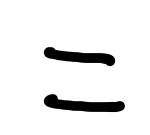eqv: (44, 48, 125, 112)
